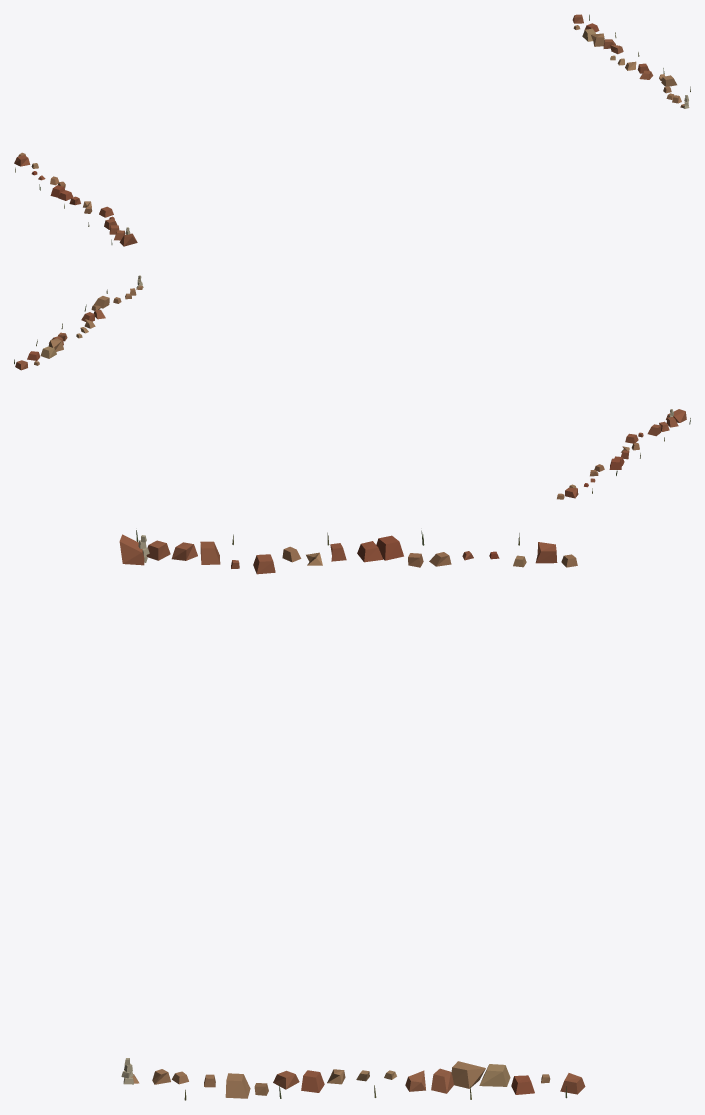
Rendered from mesa_lip_kicker_24x6x60_detail1.glb.
3 views of the same model, one above another, from view 1: azimuth 30°, elevation 25°; view 2: azimuth 150°, elevation 25°; view 3: azimuth 270°, elevation 25° (orthographic). The views are drawn at different scales.
Parts seen in each view (by area): view 1: mesa_lip_kicker_24x6x60_detail1; view 2: mesa_lip_kicker_24x6x60_detail1; view 3: mesa_lip_kicker_24x6x60_detail1.
Part boxes in pixels (left/top/right/bottom): mesa_lip_kicker_24x6x60_detail1: left=14, top=14, right=690, bottom=246; mesa_lip_kicker_24x6x60_detail1: left=14, top=275, right=690, bottom=499; mesa_lip_kicker_24x6x60_detail1: left=119, top=530, right=585, bottom=1100.
Bounding box in the file's own units: 66.7 × 1.33 × 23.53.
